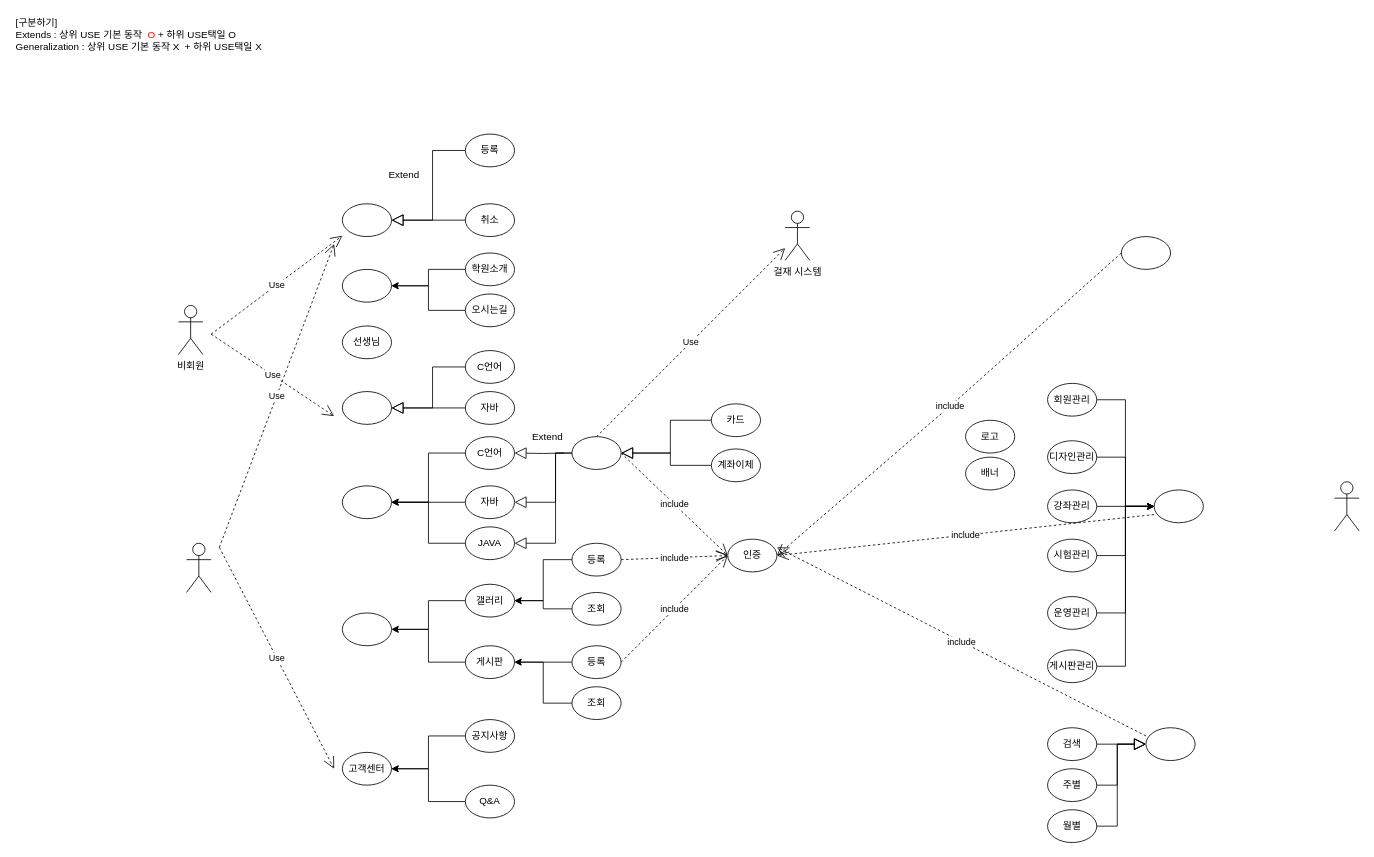
Some shapes in this 1374 by 857 pixel diagram are drawn without their labels. The shapes that lost their labels are listed below. From the top down, each one's centre as x and y in pixels, then its label:
At (x=367, y=220): "회원가입".
At (x=1146, y=252): "한경설정".
At (x=367, y=285): "Info".
At (x=367, y=407): "교재".
At (x=596, y=452): "결제 정보".
At (x=367, y=502): "강의".
At (x=1178, y=506): "관리".
At (x=1346, y=506): "관리자".
At (x=198, y=567): "회원".
At (x=367, y=629): "커뮤니티".
At (x=1170, y=744): "접속통계".
